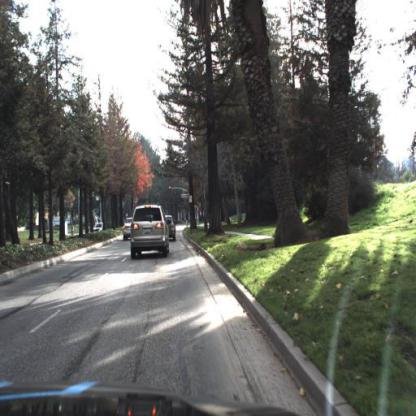car: (129, 200, 174, 263), (123, 217, 137, 243), (165, 214, 177, 240), (95, 223, 107, 234)
trafficLight-Red: (169, 185, 173, 193)
